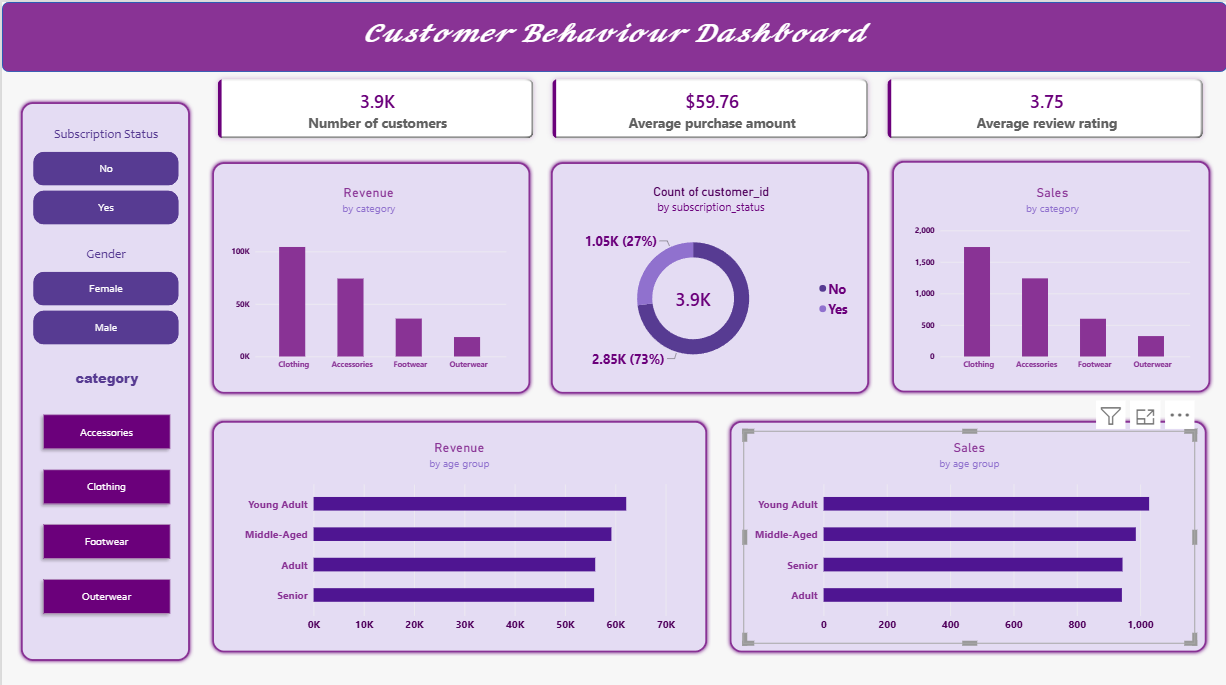

The dashboard page shown, as its layout file describes it:
{"tool":"powerbi","page":{"name":"Page 1","canvas":[1920,1080],"ordinal":0},"visuals":[{"type":"cardVisual","fields":{"Data":["public customer.Number of customers","public customer.Average purchase amount","public customer.Average review rating"]},"box":[328.3,109.4,1567.9,115.1],"z":0},{"type":"shape","box":[0,0,1920.8,109.4],"z":1000},{"type":"textbox","box":[0,15.1,1920,150],"z":2000},{"type":"shape","box":[854.7,245.3,511.3,375.5],"z":3000},{"type":"donutChart","fields":{"Category":["public customer.subscription_status"],"Y":["CountNonNull(public customer.customer_id)"]},"box":[871.7,271.7,479.2,324.5],"z":4000},{"type":"shape","box":[1390.6,243.4,511.3,375.5],"z":5000},{"type":"shape","box":[322.6,245.3,511.3,375.5],"z":6000},{"type":"shape","box":[1135.8,650.9,760.4,375.5],"z":7000},{"type":"shape","box":[322.6,650.9,788.7,375.5],"z":8000},{"type":"shape","box":[22.6,150.9,277.4,888.7],"z":9000},{"type":"clusteredColumnChart","title":"Revenue","fields":{"Category":["public customer.category"],"Y":["Sum(public customer.purchase_amount)"]},"box":[343.4,271.7,464.2,324.5],"z":10000},{"type":"clusteredColumnChart","title":"Sales","fields":{"Category":["public customer.category"],"Y":["CountNonNull(public customer.customer_id)"]},"box":[1415.1,271.7,464.2,324.5],"z":11000},{"type":"advancedSlicerVisual","fields":{"Values":["public customer.subscription_status"]},"box":[49.1,194.3,228.3,156.6],"z":12000},{"type":"advancedSlicerVisual","fields":{"Values":["public customer.gender"]},"box":[49.1,383,228.3,156.6],"z":13000},{"type":"advancedSlicerVisual","fields":{"Values":["public customer.category"]},"box":[56.6,573.6,215.1,413.2],"z":14000},{"type":"clusteredBarChart","title":"Revenue","fields":{"Category":["public customer.age_group"],"Y":["Sum(public customer.purchase_amount)"]},"box":[362.3,671.7,709.4,335.8],"z":14001},{"type":"clusteredBarChart","title":"Sales","fields":{"Category":["public customer.age_group"],"Y":["CountNonNull(public customer.customer_id)"]},"box":[1162.3,671.7,709.4,335.8],"z":14002}]}

Visuals, with their boxes in screenshot pixels (x1, y1, x2, y2), scaled from the page's 1920x1080 canvas onto the 1226x685 screenshot:
cardVisual - public customer.Number of customers x public customer.Average purchase amount: {"x1": 210, "y1": 69, "x2": 1211, "y2": 142}
shape: {"x1": 0, "y1": 0, "x2": 1225, "y2": 69}
textbox: {"x1": 0, "y1": 10, "x2": 1225, "y2": 105}
shape: {"x1": 546, "y1": 156, "x2": 872, "y2": 394}
donutChart - public customer.subscription_status x CountNonNull(public customer.customer_id): {"x1": 557, "y1": 172, "x2": 863, "y2": 378}
shape: {"x1": 888, "y1": 154, "x2": 1214, "y2": 393}
shape: {"x1": 206, "y1": 156, "x2": 532, "y2": 394}
shape: {"x1": 725, "y1": 413, "x2": 1211, "y2": 651}
shape: {"x1": 206, "y1": 413, "x2": 710, "y2": 651}
shape: {"x1": 14, "y1": 96, "x2": 192, "y2": 659}
"Revenue" clusteredColumnChart: {"x1": 219, "y1": 172, "x2": 516, "y2": 378}
"Sales" clusteredColumnChart: {"x1": 904, "y1": 172, "x2": 1200, "y2": 378}
advancedSlicerVisual - public customer.subscription_status: {"x1": 31, "y1": 123, "x2": 177, "y2": 223}
advancedSlicerVisual - public customer.gender: {"x1": 31, "y1": 243, "x2": 177, "y2": 342}
advancedSlicerVisual - public customer.category: {"x1": 36, "y1": 364, "x2": 173, "y2": 626}
"Revenue" clusteredBarChart: {"x1": 231, "y1": 426, "x2": 684, "y2": 639}
"Sales" clusteredBarChart: {"x1": 742, "y1": 426, "x2": 1195, "y2": 639}
